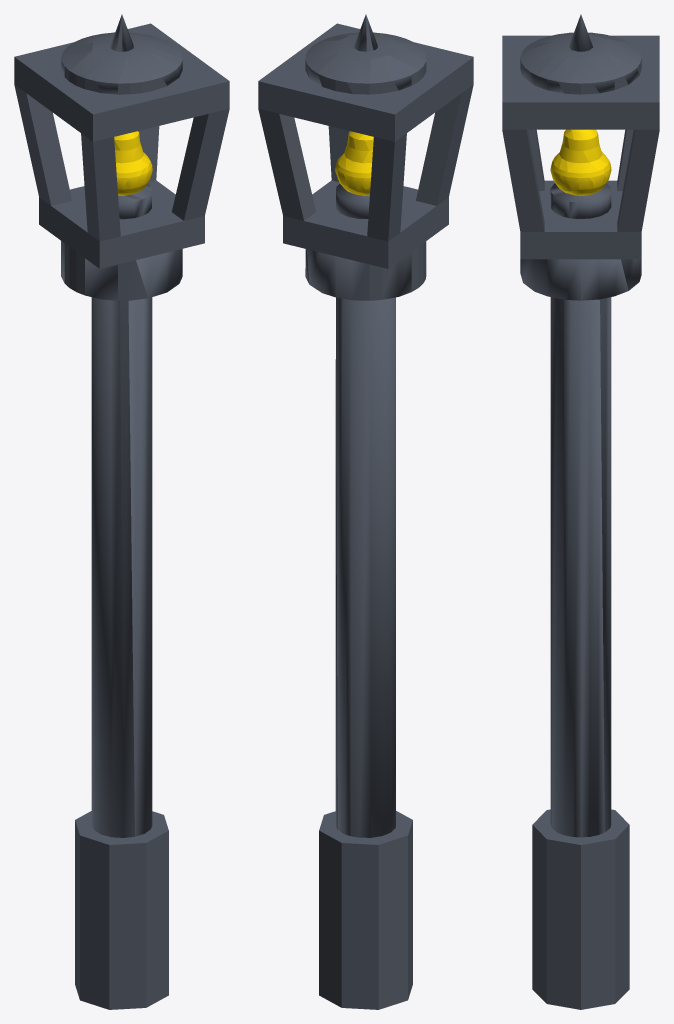
File: CerosinLampLOD1.fbx
The picture shows the model from 3 angles, left to right: view 1: azimuth 30°, elevation 25°; view 2: azimuth 150°, elevation 25°; view 3: azimuth 270°, elevation 25°; orthographic projection.
Visible parts, largest first — view 1: Sphere; view 2: Sphere; view 3: Sphere.
Part boxes in pixels (box(x1,y1,x2,y2)): Sphere: box(14, 14, 229, 1009); Sphere: box(258, 14, 473, 1009); Sphere: box(502, 14, 659, 1009).
Bounding box in the file's own units: 260 × 1775 × 260.
